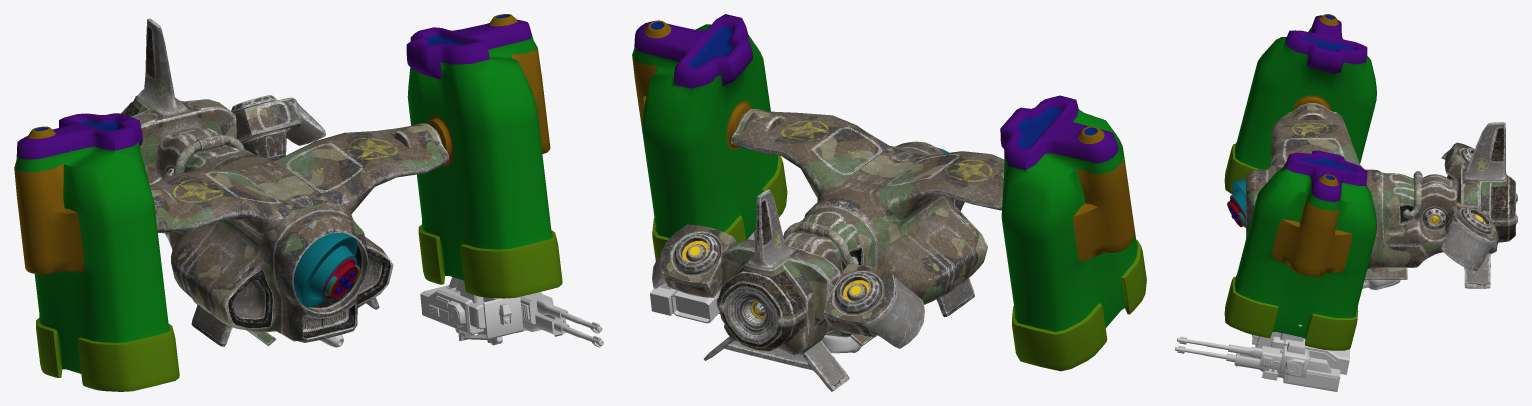
The model's file is drone2.fbx.
The picture shows the model from 3 angles, left to right: view 1: azimuth 30°, elevation 25°; view 2: azimuth 150°, elevation 25°; view 3: azimuth 270°, elevation 25°; orthographic projection. The views are drawn at different scales.
Visible parts, largest first — view 1: SDPesawatDrone_Badan2_2, SDPesawatDrone_EngineRoket, SDPesawatDrone_EngineRoket.001, Base, SDPesawatDrone_EngineRoket.003, SDPesawatDrone_Badan2_2.001, Base.001; view 2: SDPesawatDrone_Badan2_2, SDPesawatDrone_EngineRoket, SDPesawatDrone_EngineRoket.001, SDPesawatDrone_EngineRoket.002, SDPesawatDrone_EngineRoket.003, Base, Base.001, SDPesawatDrone_Senjata_1; view 3: SDPesawatDrone_EngineRoket.001, SDPesawatDrone_Badan2_2, SDPesawatDrone_EngineRoket, Base.001, SDPesawatDrone_EngineRoket.003, Base, SDPesawatDrone_EngineRoket.002, SDPesawatDrone_Badan2_2.001, SDPesawatDrone_Senjata_1.
Part boxes in pixels (x1=…): SDPesawatDrone_Badan2_2: x1=120, y1=18, x2=449, y2=346; SDPesawatDrone_EngineRoket: x1=14, y1=113, x2=179, y2=391; SDPesawatDrone_EngineRoket.001: x1=406, y1=14, x2=562, y2=298; Base: x1=420, y1=277, x2=523, y2=345; SDPesawatDrone_EngineRoket.003: x1=231, y1=95, x2=325, y2=160; SDPesawatDrone_Badan2_2.001: x1=293, y1=233, x2=360, y2=307; Base.001: x1=517, y1=291, x2=603, y2=347; SDPesawatDrone_Badan2_2: x1=704, y1=108, x2=1004, y2=391; SDPesawatDrone_EngineRoket: x1=1000, y1=95, x2=1146, y2=371; SDPesawatDrone_EngineRoket.001: x1=632, y1=14, x2=787, y2=260; SDPesawatDrone_EngineRoket.002: x1=823, y1=264, x2=924, y2=348; SDPesawatDrone_EngineRoket.003: x1=652, y1=224, x2=736, y2=297; Base: x1=671, y1=230, x2=755, y2=323; Base.001: x1=650, y1=283, x2=676, y2=315; SDPesawatDrone_Senjata_1: x1=821, y1=335, x2=861, y2=353; SDPesawatDrone_EngineRoket.001: x1=1224, y1=150, x2=1376, y2=350; SDPesawatDrone_Badan2_2: x1=1246, y1=103, x2=1517, y2=288; SDPesawatDrone_EngineRoket: x1=1224, y1=14, x2=1376, y2=193; Base.001: x1=1175, y1=336, x2=1340, y2=391; SDPesawatDrone_EngineRoket.003: x1=1441, y1=202, x2=1496, y2=271; Base: x1=1252, y1=324, x2=1349, y2=374; SDPesawatDrone_EngineRoket.002: x1=1441, y1=142, x2=1474, y2=179; SDPesawatDrone_Badan2_2.001: x1=1227, y1=179, x2=1245, y2=227; SDPesawatDrone_Senjata_1: x1=1362, y1=279, x2=1400, y2=289.
Bounding box in the file's own units: 2671 × 1512 × 2157.
